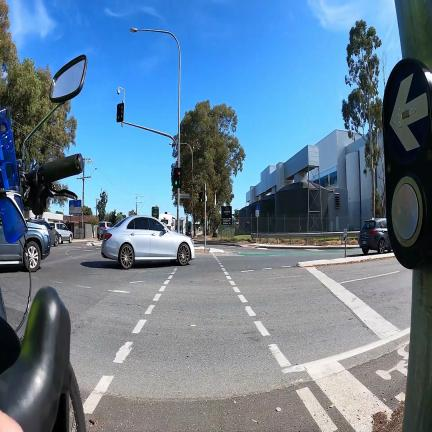Bike_Lane: (88, 335, 409, 432)
Green_Bike_Lane: (211, 249, 338, 258)
